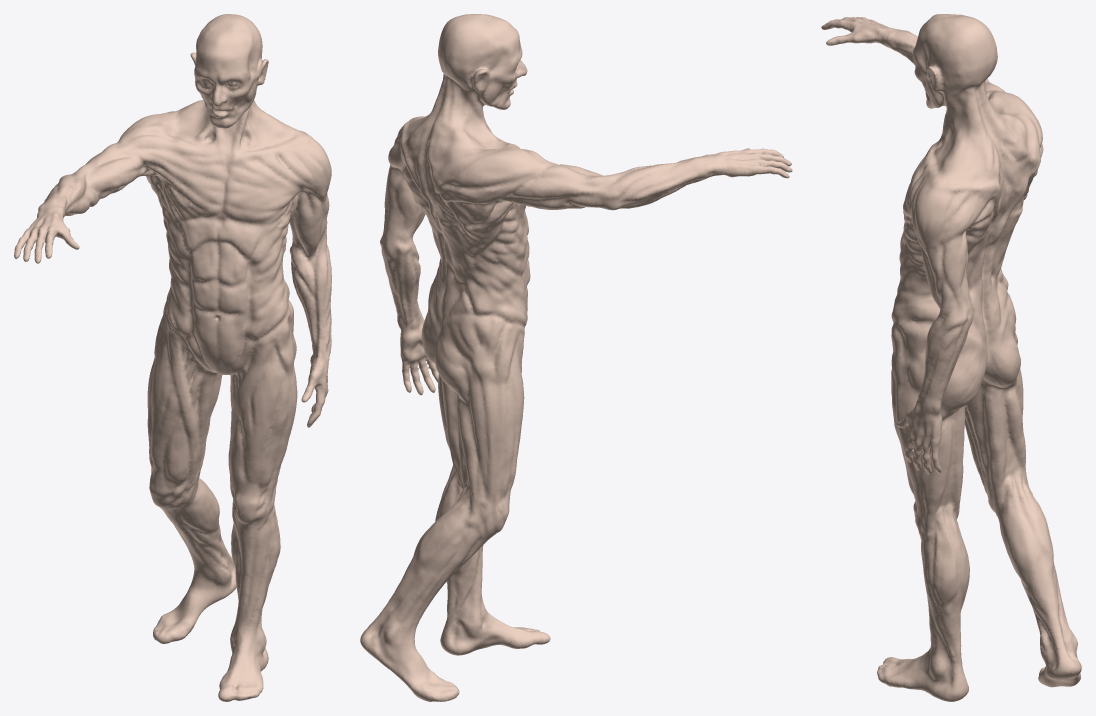
The model's file is male.glb.
The picture shows the model from 3 angles, left to right: view 1: azimuth 30°, elevation 25°; view 2: azimuth 150°, elevation 25°; view 3: azimuth 270°, elevation 25°; orthographic projection. The views are drawn at different scales.
Parts seen in each view (by area): view 1: body; view 2: body; view 3: body.
Part boxes in pixels (x1,y1,x2,y2): body: (14,14,331,701); body: (360,14,792,701); body: (821,14,1081,701).
Bounding box in the file's own units: 0.9912 × 1.7 × 0.5979.
